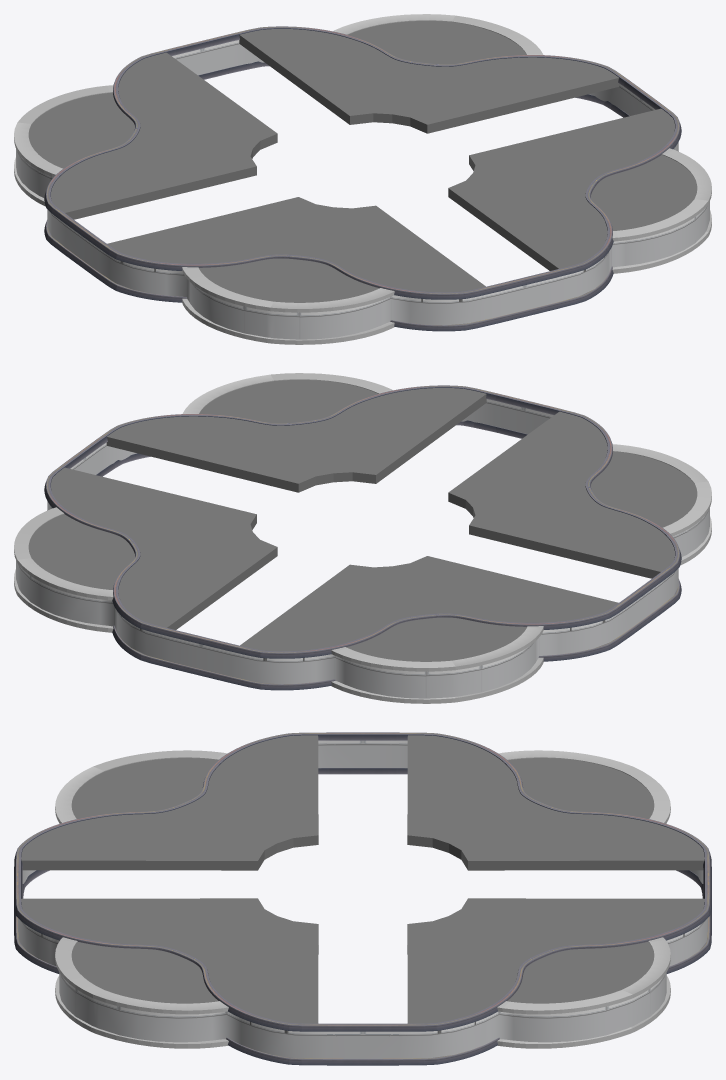
File: mesh_1002_zc_ground26.fbx
3 views of the same model, one above another, from view 1: azimuth 30°, elevation 25°; view 2: azimuth 150°, elevation 25°; view 3: azimuth 270°, elevation 25° (orthographic). The views are drawn at different scales.
Parts seen in each view (by area): view 1: mesh_1002_zc_ground26a, mesh_1002_zc_ground26d, mesh_1002_zc_ground26g, mesh_1002_zc_ground26b, mesh_1002_zc_ground26c; view 2: mesh_1002_zc_ground26a, mesh_1002_zc_ground26d, mesh_1002_zc_ground26g, mesh_1002_zc_ground26b, mesh_1002_zc_ground26c; view 3: mesh_1002_zc_ground26a, mesh_1002_zc_ground26d, mesh_1002_zc_ground26g, mesh_1002_zc_ground26b, mesh_1002_zc_ground26c.
Part boxes in pixels (box(x1,y1,x2,y2)): mesh_1002_zc_ground26a: box(51, 29, 674, 302); mesh_1002_zc_ground26d: box(28, 21, 697, 302); mesh_1002_zc_ground26g: box(16, 40, 709, 339); mesh_1002_zc_ground26b: box(44, 26, 681, 331); mesh_1002_zc_ground26c: box(14, 14, 711, 344); mesh_1002_zc_ground26a: box(51, 388, 674, 661); mesh_1002_zc_ground26d: box(28, 380, 697, 661); mesh_1002_zc_ground26g: box(16, 399, 709, 698); mesh_1002_zc_ground26b: box(44, 385, 681, 690); mesh_1002_zc_ground26c: box(14, 373, 711, 703); mesh_1002_zc_ground26a: box(21, 735, 704, 1033); mesh_1002_zc_ground26d: box(71, 758, 654, 1003); mesh_1002_zc_ground26g: box(17, 740, 708, 1058); mesh_1002_zc_ground26b: box(14, 732, 711, 1065); mesh_1002_zc_ground26c: box(55, 750, 670, 1048).
Size of the model in its own units: 5991 by 378 by 5991.
